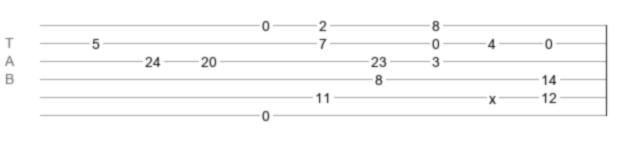0: (262, 18, 270, 28), (262, 108, 270, 118), (432, 36, 440, 46), (545, 36, 553, 46)
11: (315, 90, 331, 100)
12: (541, 90, 557, 100)
14: (541, 72, 557, 82)
2: (319, 18, 327, 28)
20: (201, 54, 217, 64)
23: (371, 54, 387, 64)
24: (145, 54, 161, 64)
3: (432, 54, 440, 64)
4: (488, 36, 496, 46)
5: (92, 36, 100, 46)
7: (319, 36, 327, 46)
8: (375, 72, 383, 82), (432, 18, 440, 28)
x: (489, 91, 496, 99)
